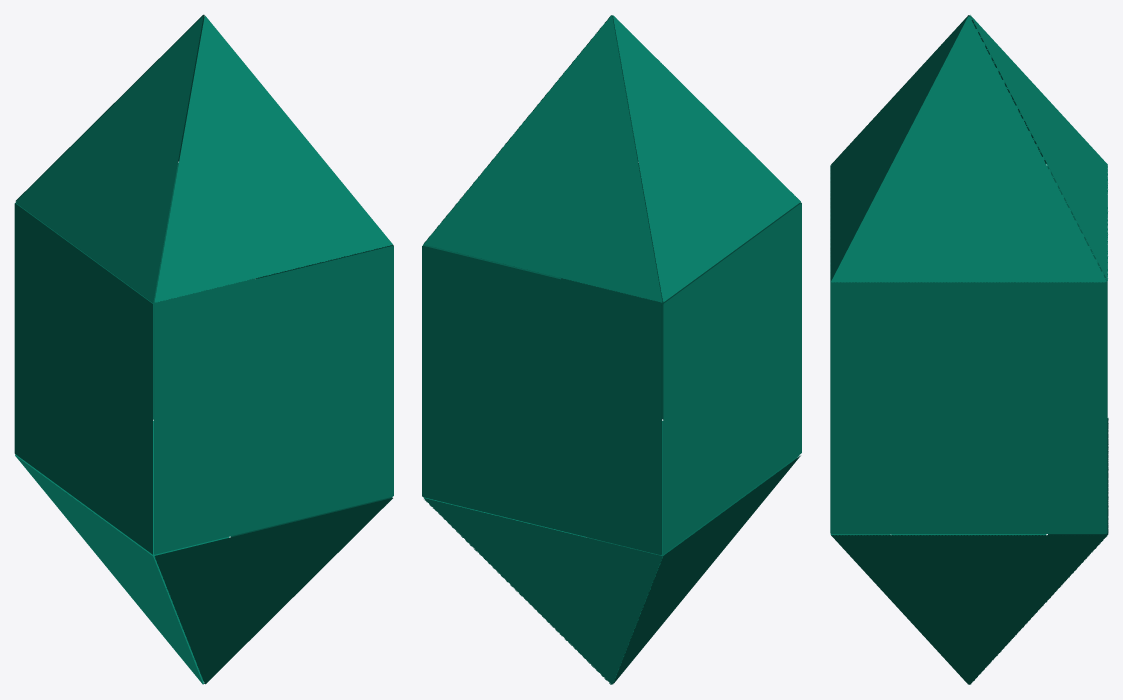
Rendered from end_well.obj.
The picture shows the model from 3 angles, left to right: view 1: azimuth 30°, elevation 25°; view 2: azimuth 150°, elevation 25°; view 3: azimuth 270°, elevation 25°; orthographic projection.
Visible parts, largest first — view 1: CrystalModel_Cube.003; view 2: CrystalModel_Cube.003; view 3: CrystalModel_Cube.003.
Part boxes in pixels (x1,y1,x2,y2): CrystalModel_Cube.003: (14, 14, 393, 684); CrystalModel_Cube.003: (422, 15, 801, 684); CrystalModel_Cube.003: (830, 15, 1108, 684).
Size of the model in its own units: 0.6 by 1.6 by 0.6.
